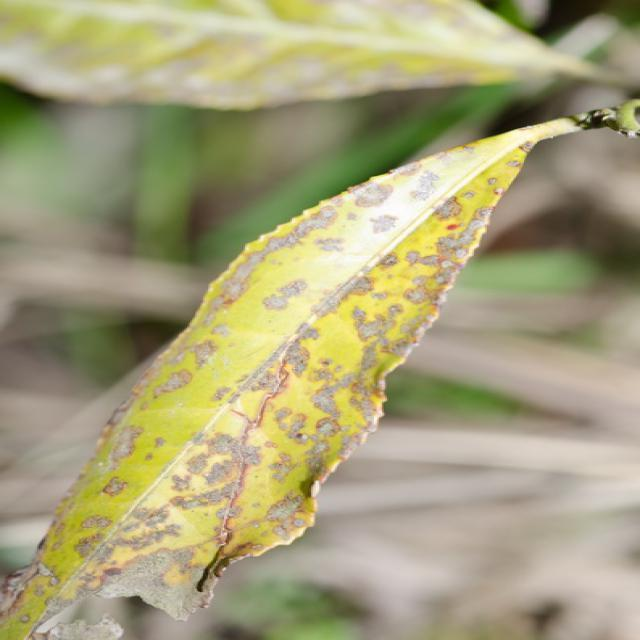Tea red rust: (56, 194, 495, 628)
